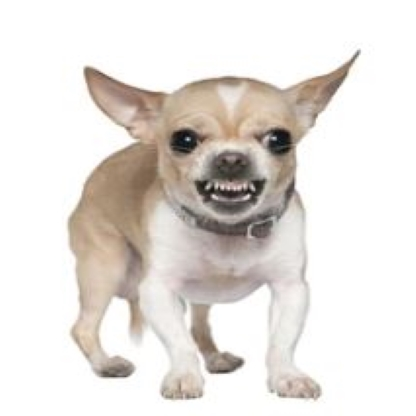chihuahua: (67, 49, 363, 398)
